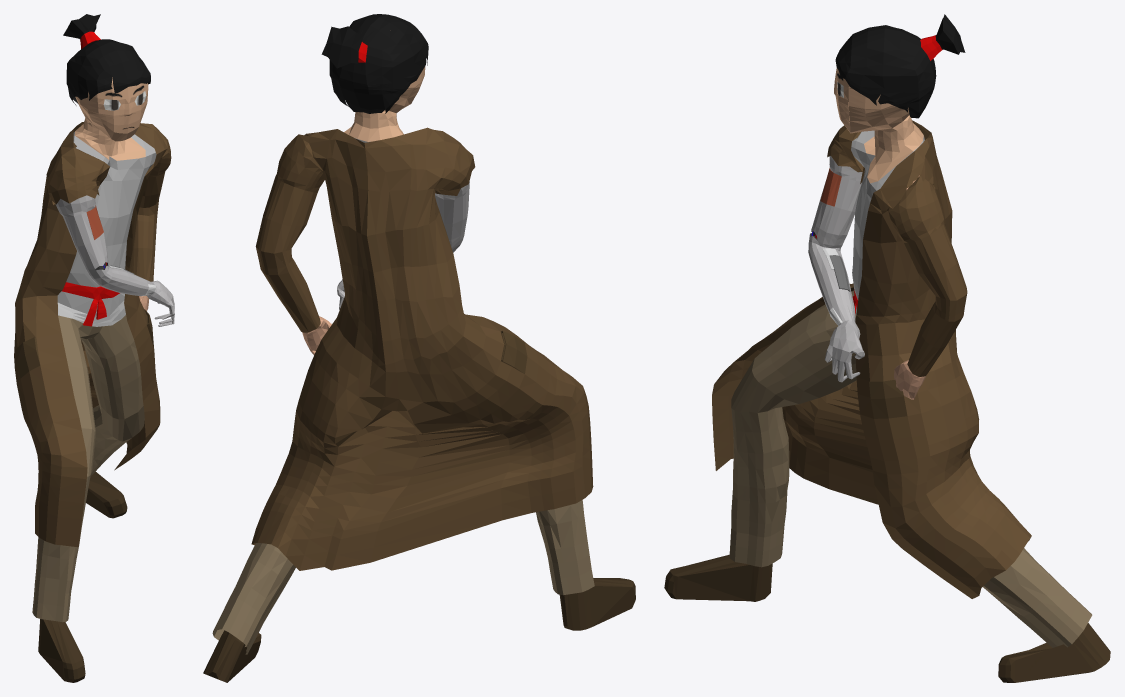
The model's file is One_RR_000010.obj.
The picture shows the model from 3 angles, left to right: view 1: azimuth 30°, elevation 25°; view 2: azimuth 150°, elevation 25°; view 3: azimuth 270°, elevation 25°; orthographic projection. The views are drawn at different scales.
Visible parts, largest first — view 1: Hair_Cube.004; view 2: Hair_Cube.004; view 3: Hair_Cube.004.
Part boxes in pixels (box(x1,y1,x2,y2)): Hair_Cube.004: box(14, 14, 174, 682); Hair_Cube.004: box(203, 14, 635, 682); Hair_Cube.004: box(664, 14, 1110, 682).
Bounding box in the file's own units: 1.45 × 3.63 × 2.26.
